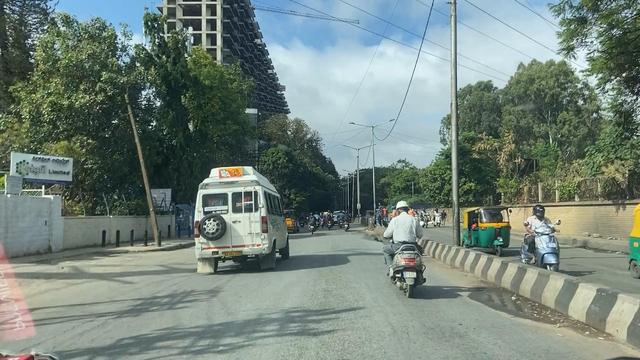HMV: (191, 166, 293, 270)
LMV: (384, 203, 426, 294)
RoadDamages: (448, 286, 540, 327)
